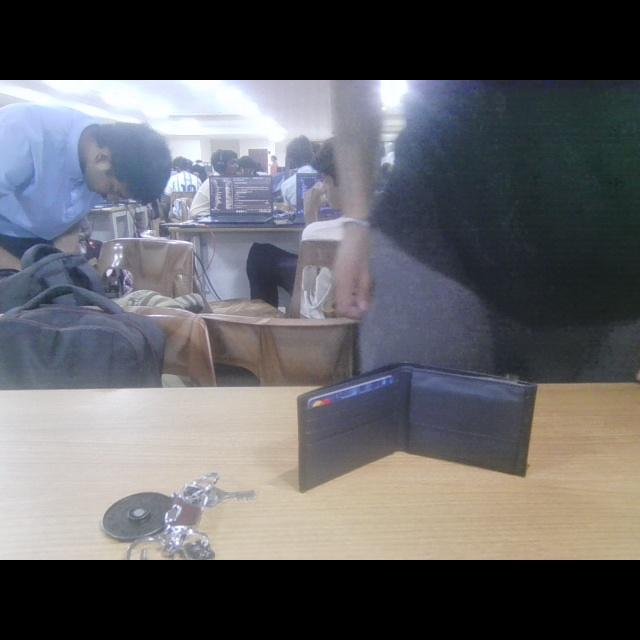keys: (100, 460, 264, 560)
wallet: (289, 351, 555, 497)
